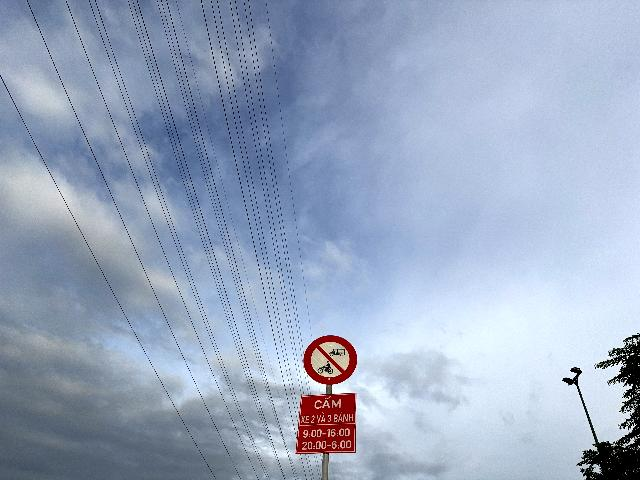cam-xe-2-banh-3-banh: (303, 334, 358, 385)
